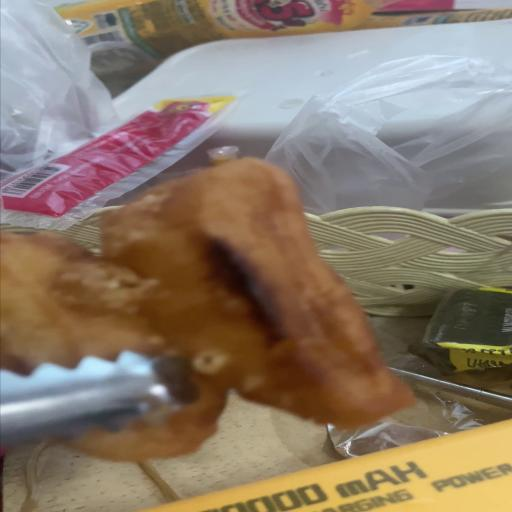street_burnt_defect: (2, 158, 414, 461)
